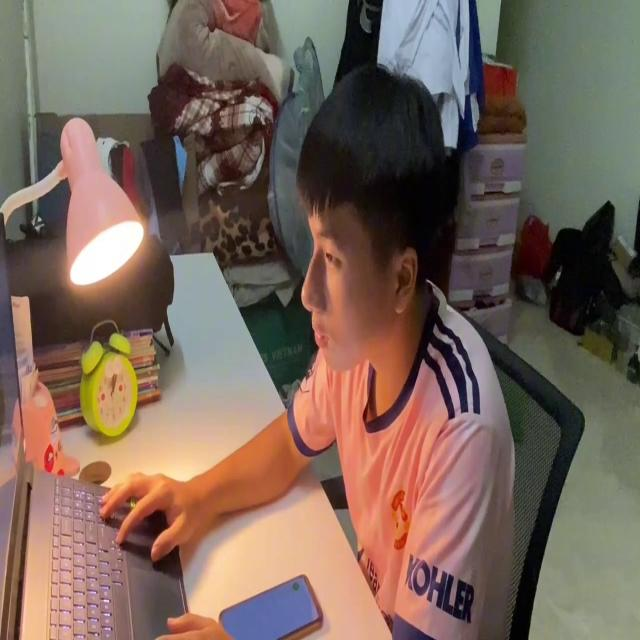laptop: (0, 212, 193, 640)
phone: (216, 569, 324, 640)
student: (101, 64, 519, 640)
